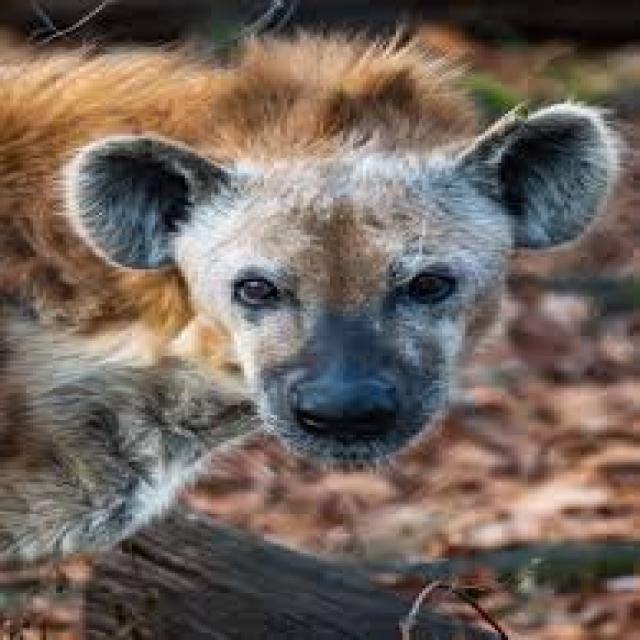Hyena: (0, 37, 617, 640)
